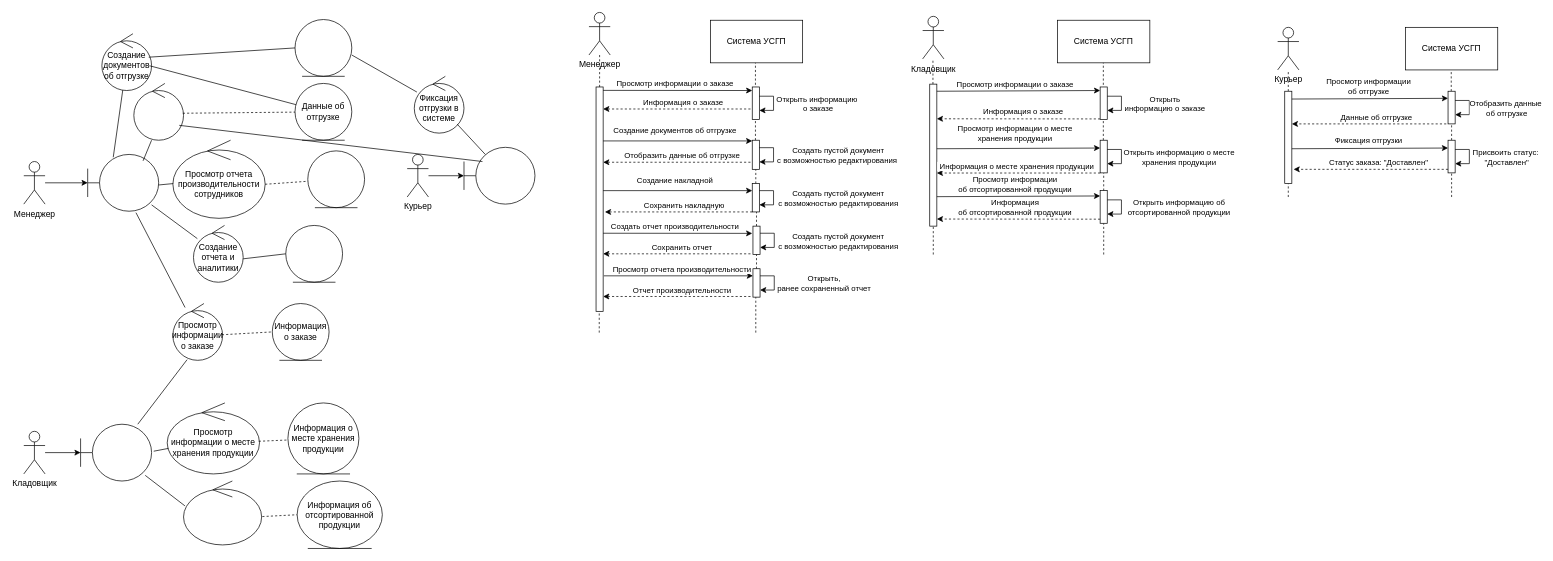
This 1553x561 diagram has some shape labels left out. Each missing label, with the centre of its shape:
"Интерфейс кладовщика" goes at pixel 116 452.
"Интерфейс курьера" goes at pixel 499 175.
"Интерфейс менеджера" goes at pixel 123 182.
"Накладная" goes at pixel 323 47.
"Отчет и аналитика" goes at pixel 314 253.
"Просмотр данных об отгрузке" goes at pixel 158 111.
"Просмотр отсортированной продукции" goes at pixel 222 512.
"Рассчитанные показатели" goes at pixel 336 179.
